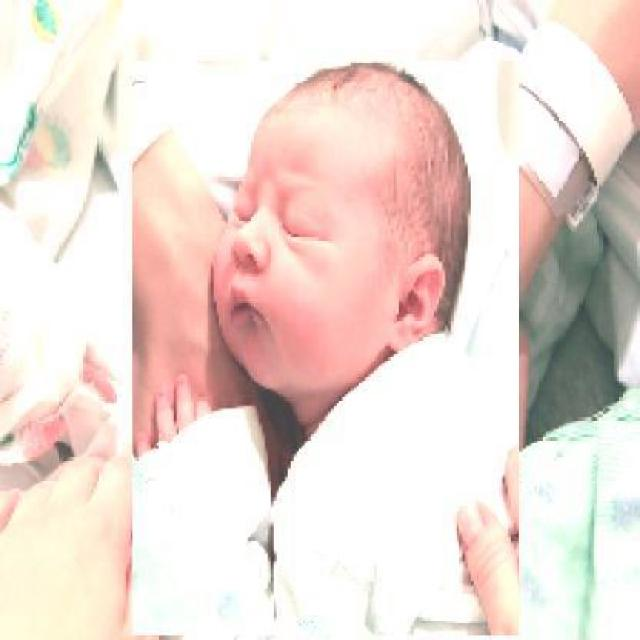child: (131, 60, 520, 637)
